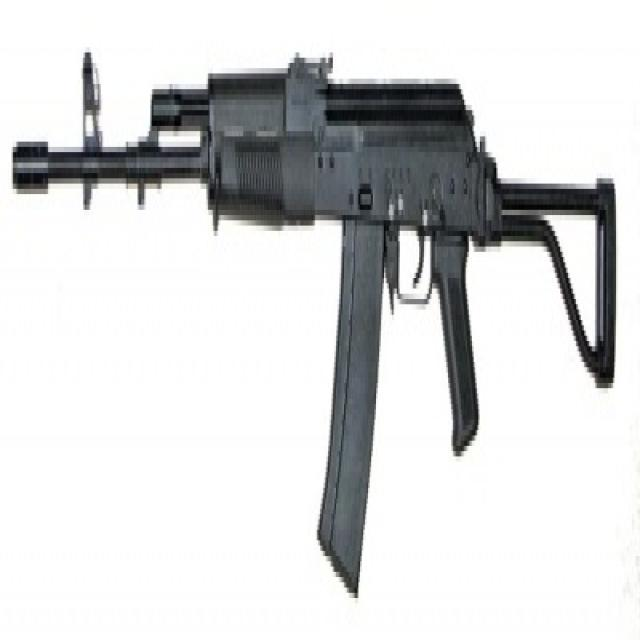rifle: (11, 28, 619, 596)
